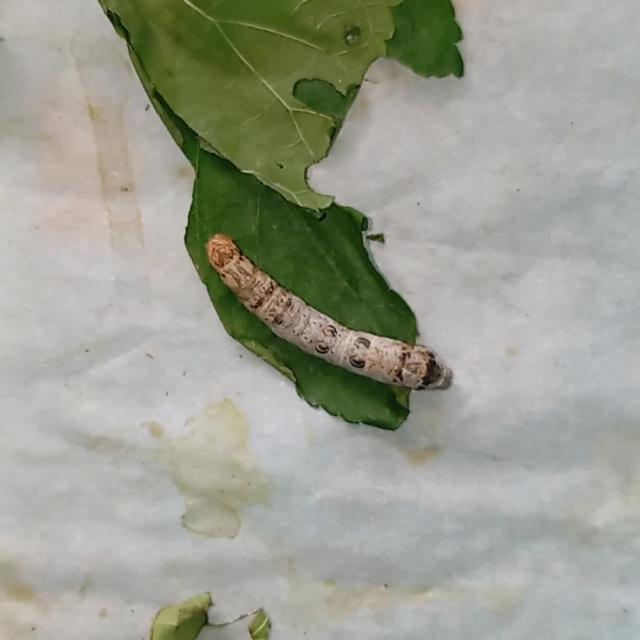Grasserie: (188, 184, 486, 423)
